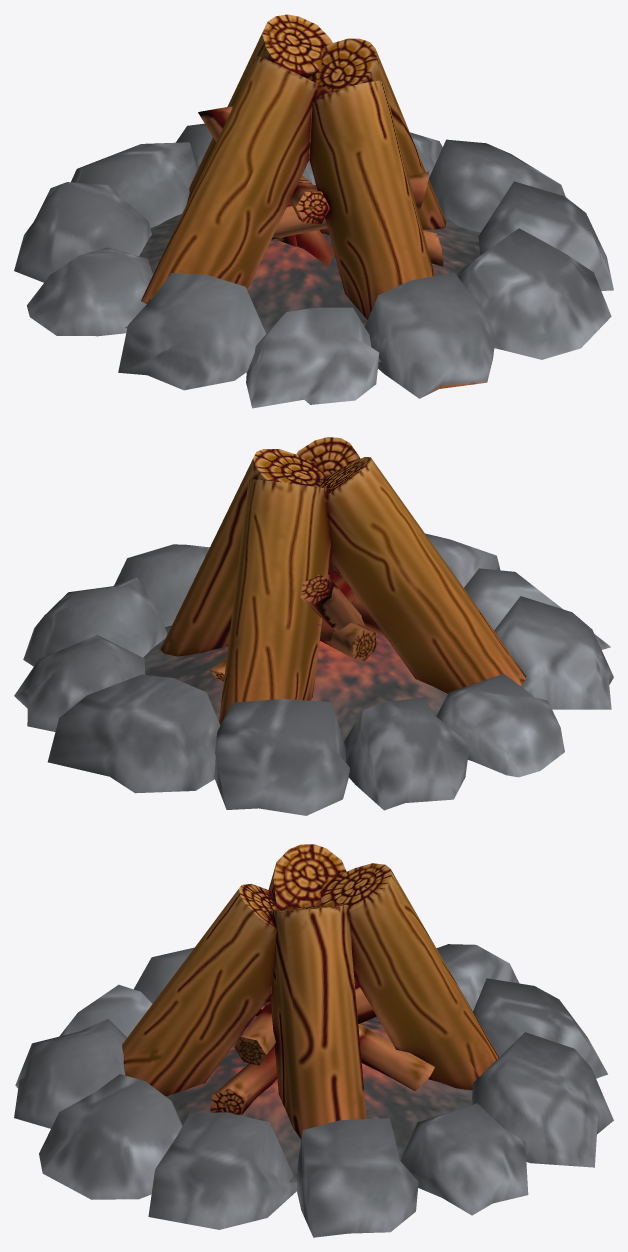
File: bonfire.fbx
3 renders of one model, top to bottom at view 1: azimuth 30°, elevation 25°; view 2: azimuth 150°, elevation 25°; view 3: azimuth 270°, elevation 25°, orthographic.
Parts seen in each view (by area): view 1: bonfire; view 2: bonfire; view 3: bonfire.
Part boxes in pixels (<box>): bonfire: <box>14,14,613,408</box>; bonfire: <box>14,437,613,815</box>; bonfire: <box>14,844,613,1237</box>.
Bounding box in the file's own units: 641 × 643 × 318.
1 material, 1 textured.
